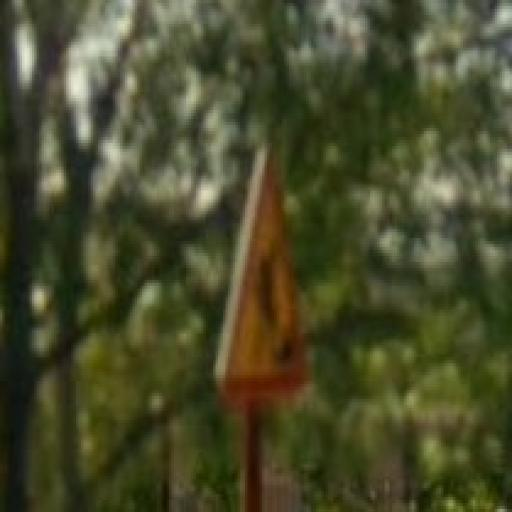traffic_sign: (214, 141, 310, 397)
